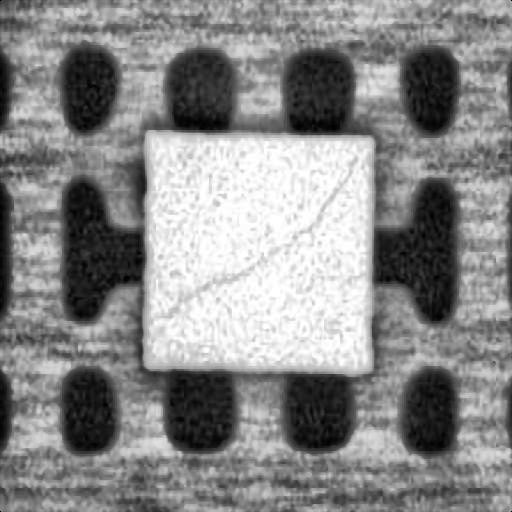DIE_CRACK: (184, 164, 347, 292)
